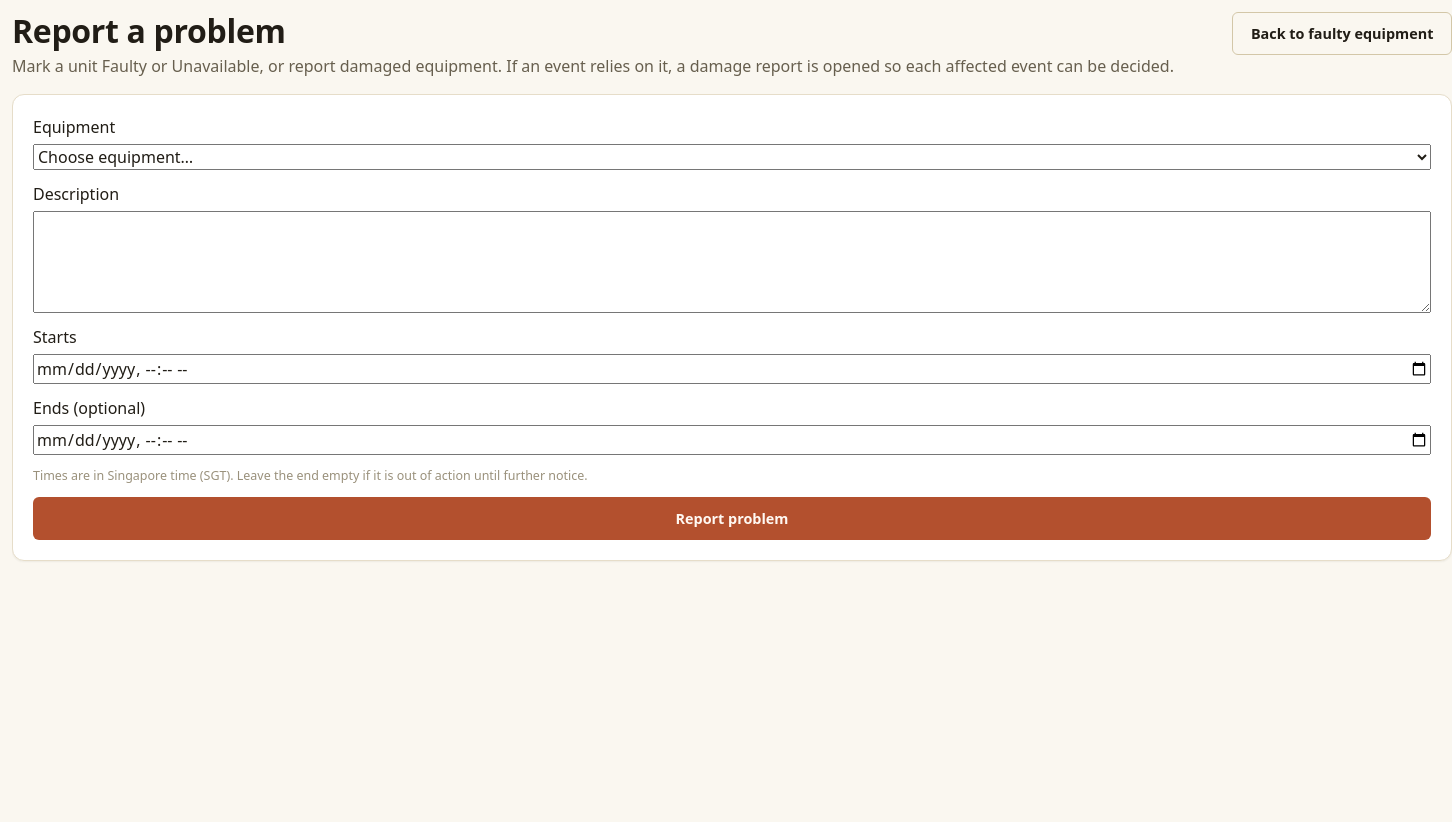
Test case: TS09 Technical Support reports damaged equipment › TS09 AC13 (failure): a report the server refuses shows its reason and stays on the form
Select "HDMI Cable (30 owned)" in the dropdown labelled "Equipment" at (732, 157), box [33,144,1431,170]
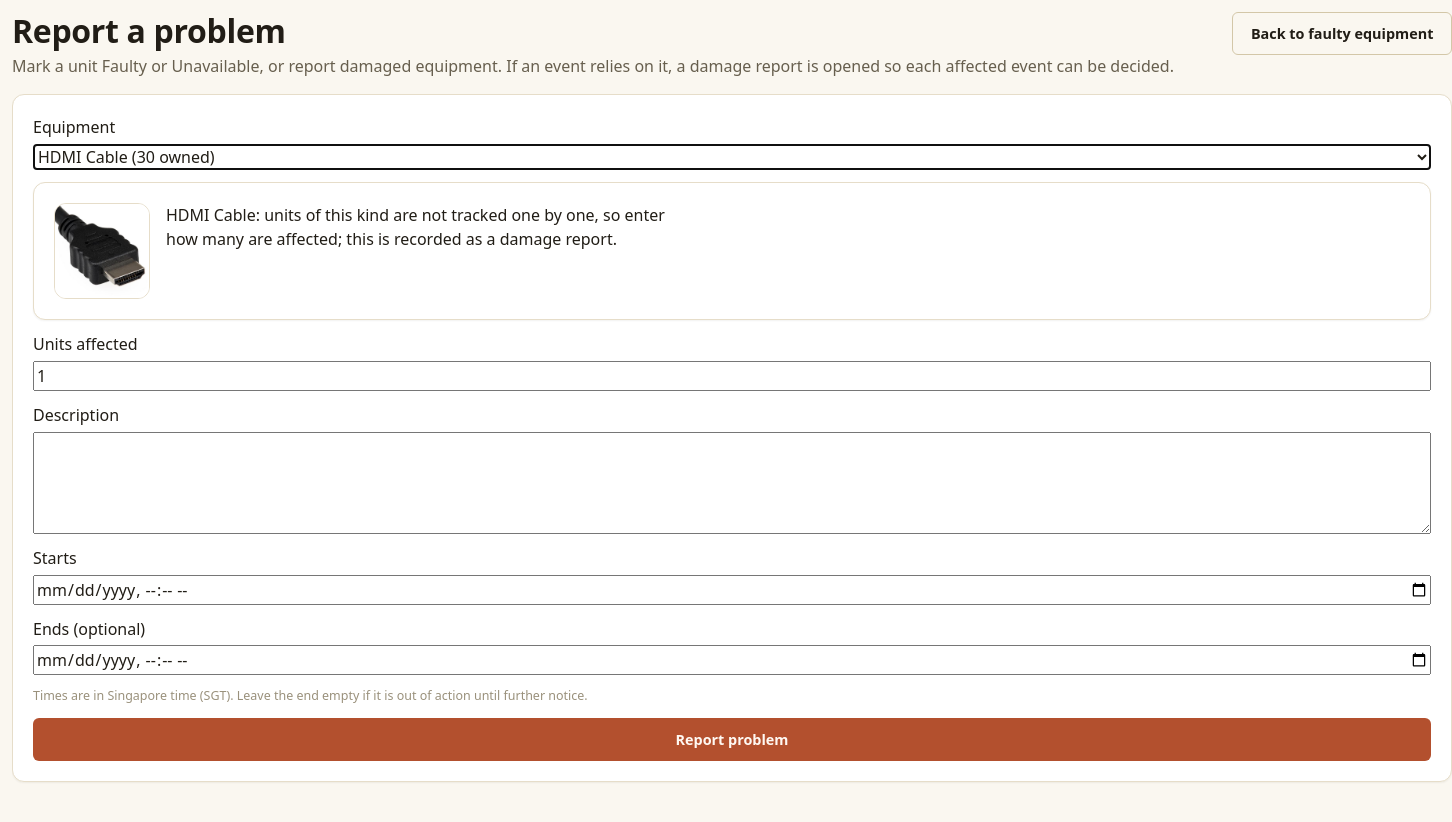
Type "2027-03-01T09:00" into the field labelled "Starts" at (732, 590), box [33,575,1431,605]
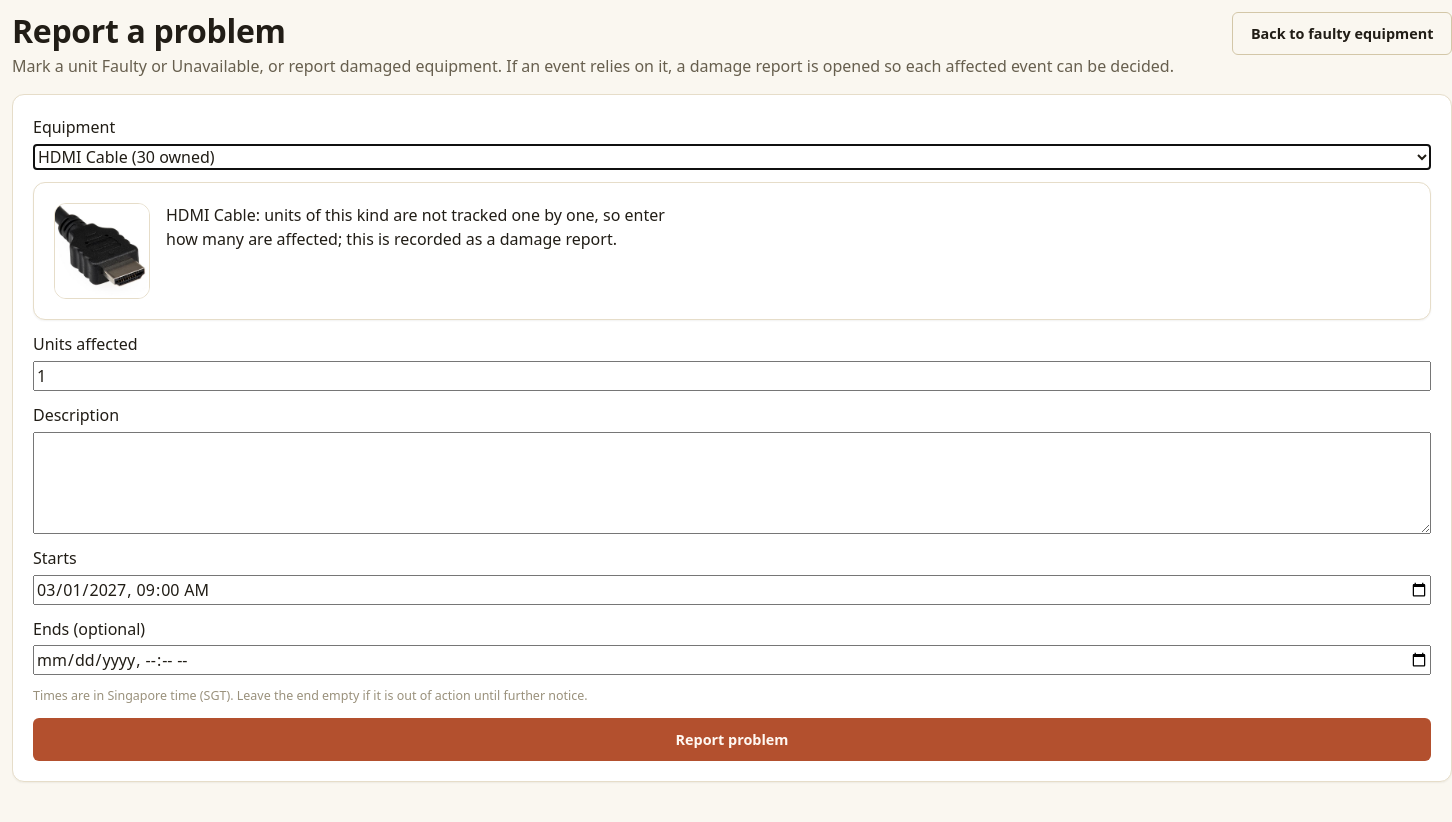
Type "Connectors bent" into the text box labelled "Description" at (732, 483), box [33,432,1431,534]
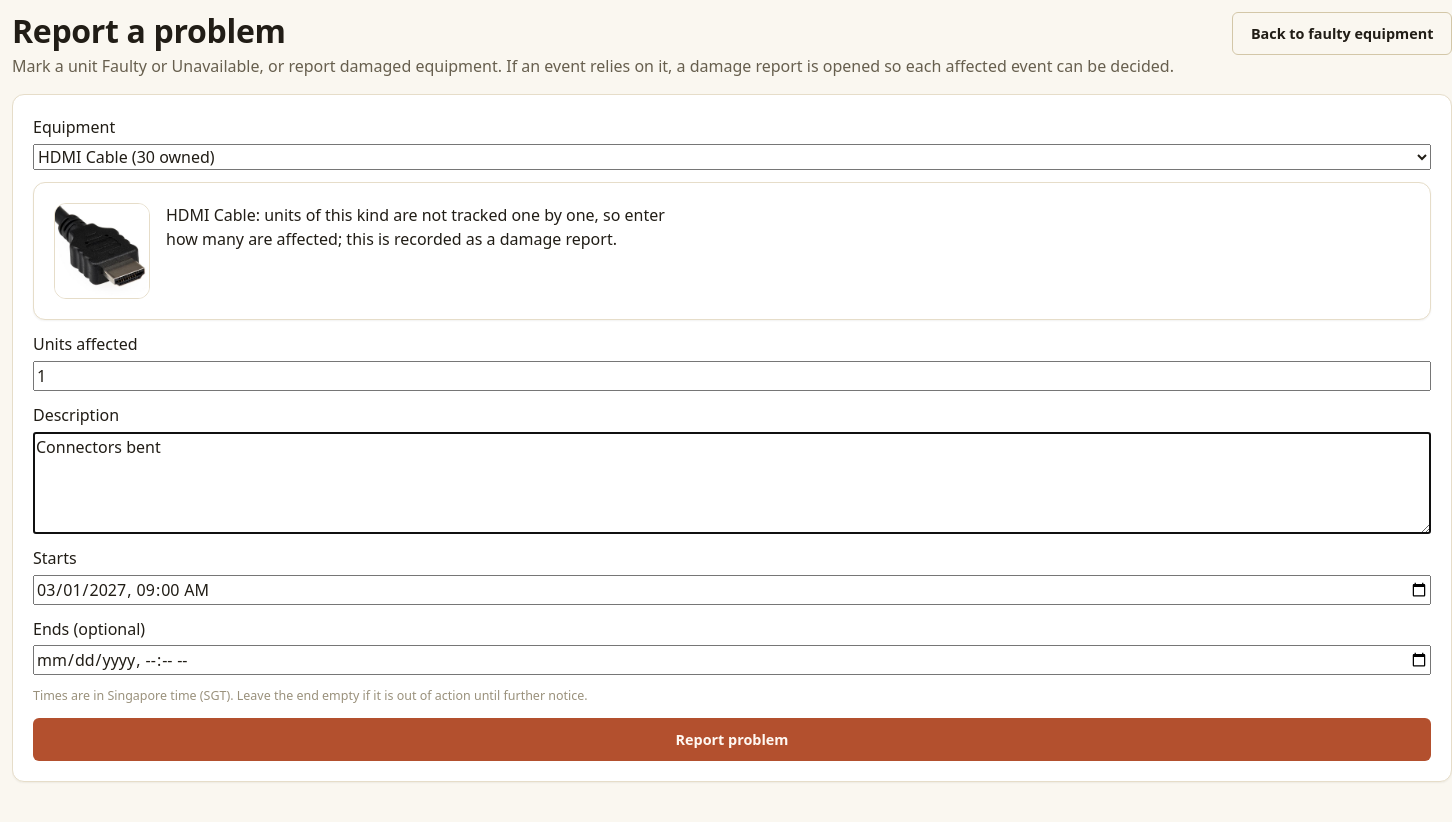
Click the button "Report problem" at (732, 740), box [33,718,1431,761]
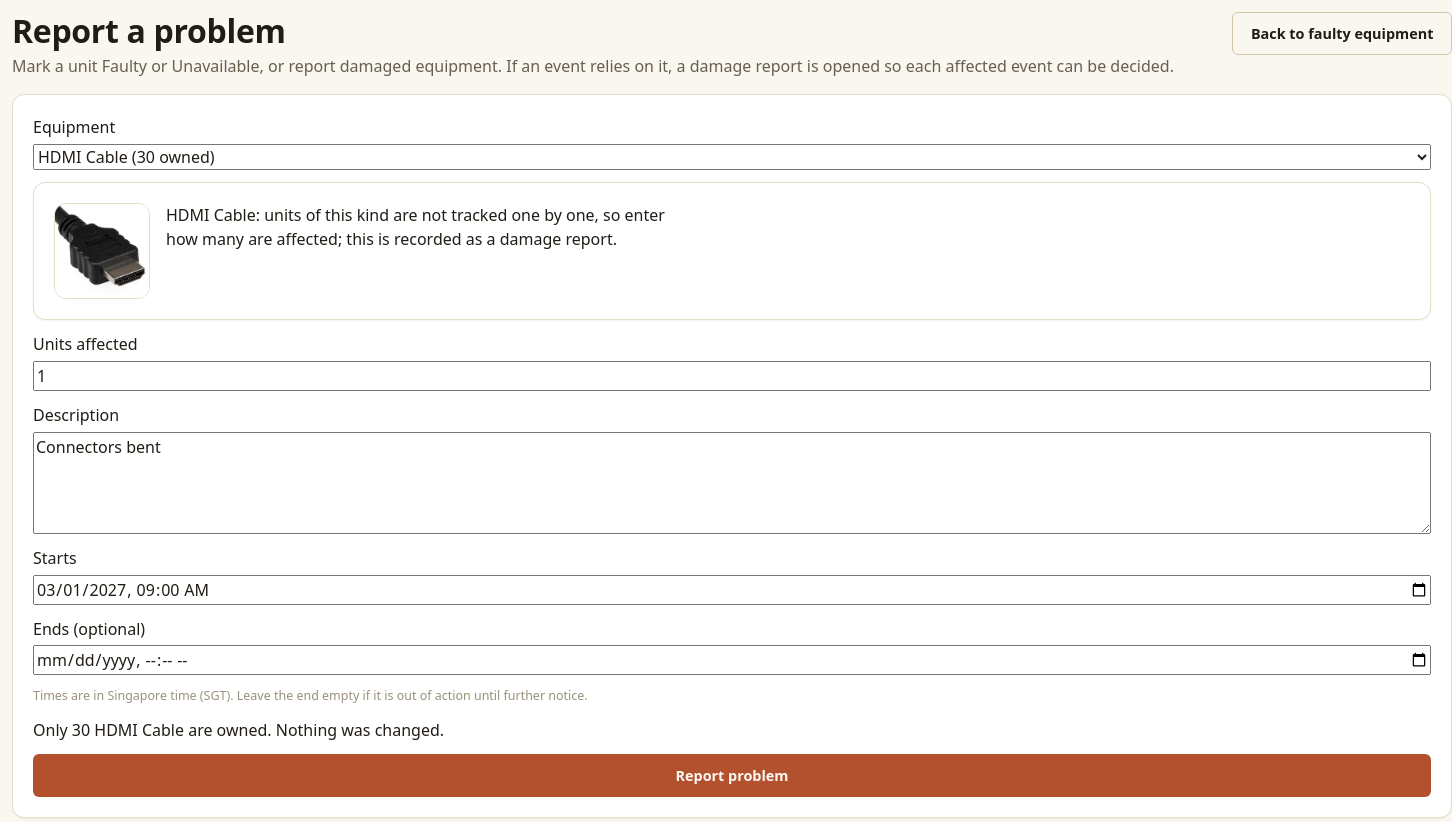
Now the message shows "Only 30 HDMI Cable are owned.", box [33,719,444,741]
